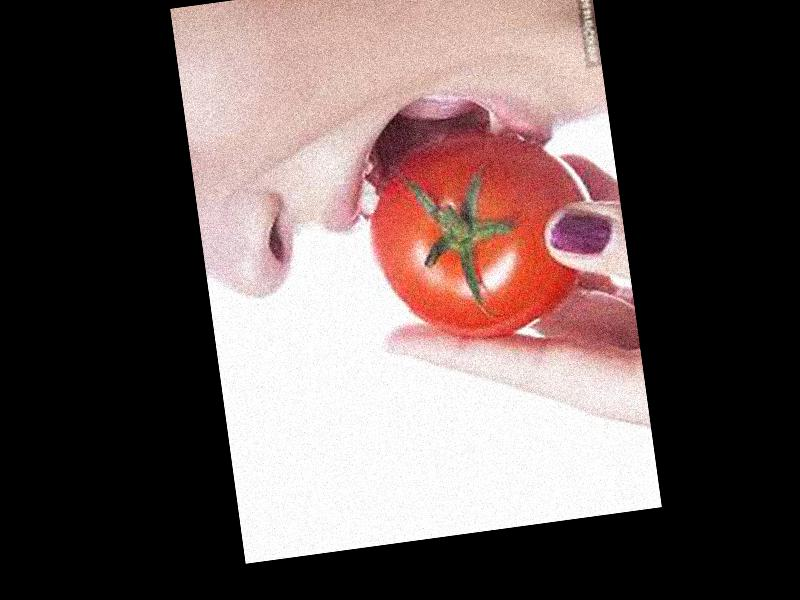Tomato: (359, 121, 607, 352)
